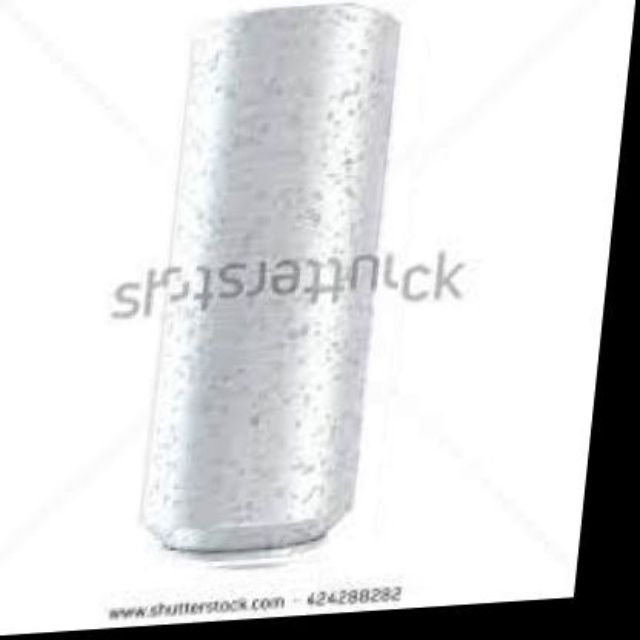trash: (143, 5, 398, 551)
